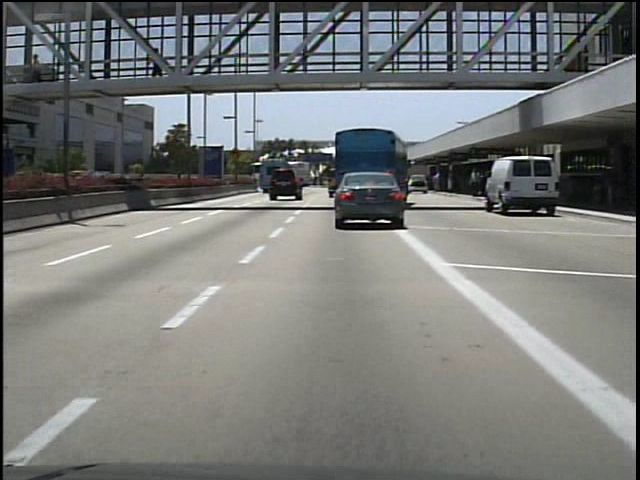person: (599, 166, 621, 212), (149, 45, 169, 89), (29, 52, 47, 85), (468, 165, 483, 200)
